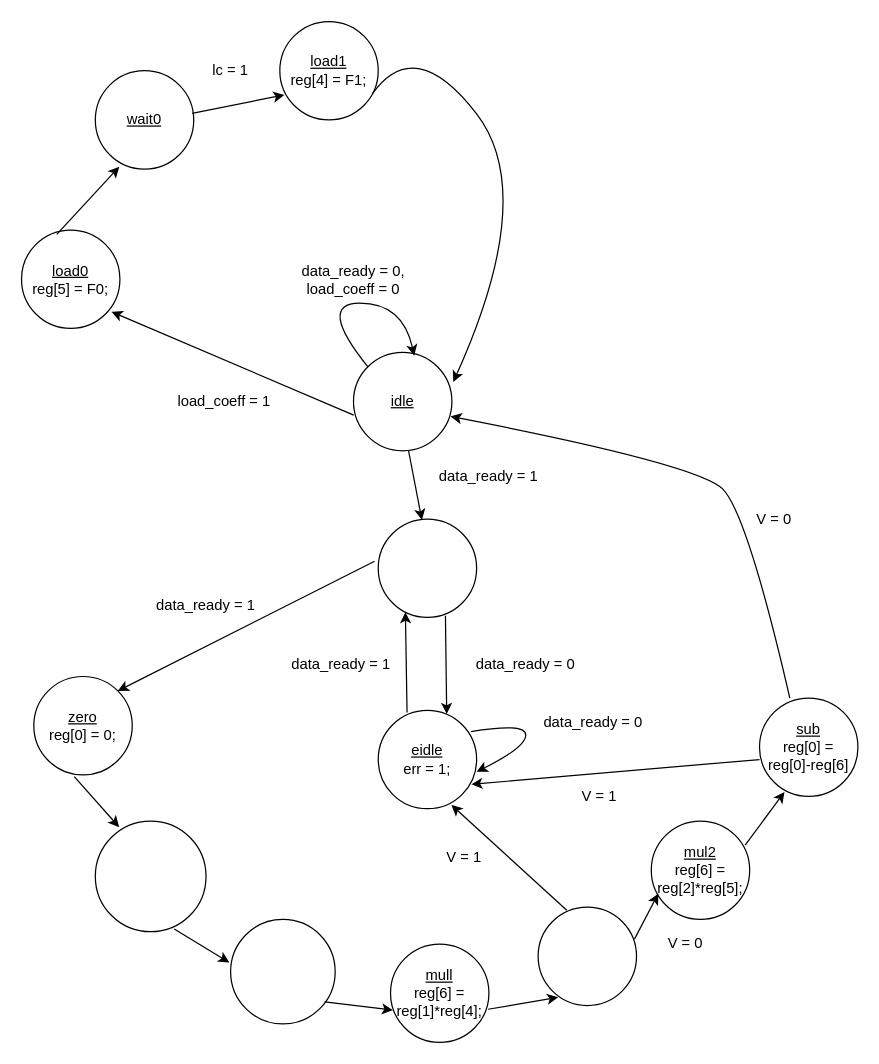
Some shapes in this 879 by 1064 pixel diagram are drawn without their labels. The shapes that lost their labels are listed below. From the top down, each one's centre as x and y in pixels, then its label:
point (427, 567): store reg[3] = data; err = 0;
point (150, 876): sort1 reg[1] = reg[2];
point (282, 971): sort2 reg[2] = reg[3];
point (587, 956): add reg[0] = reg[0]+reg[6];
